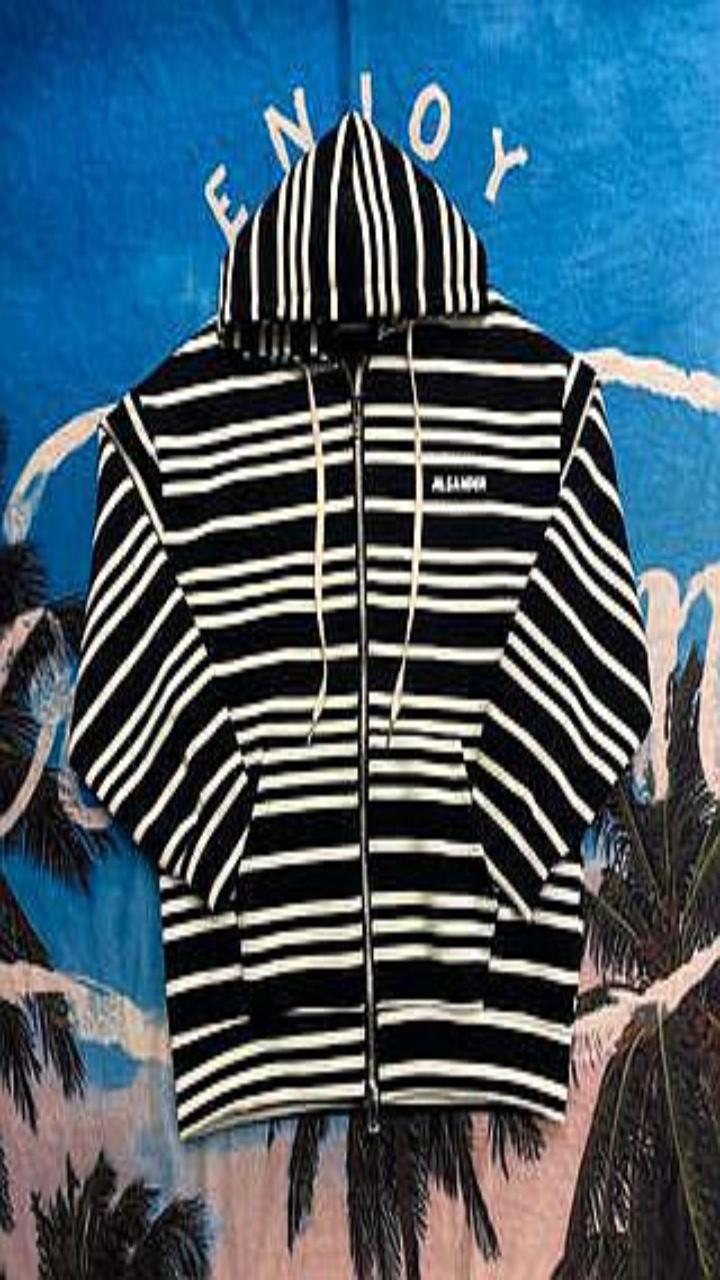Sports_Jacket: (68, 110, 652, 1138)
